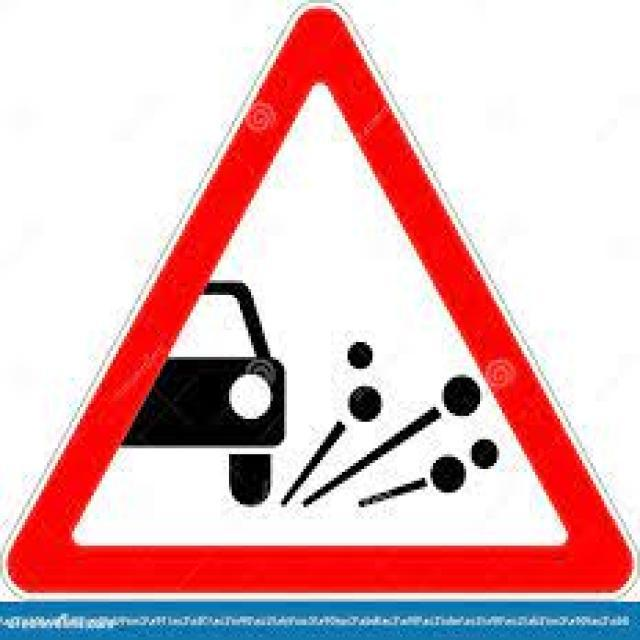loose gravel: (16, 13, 630, 592)
